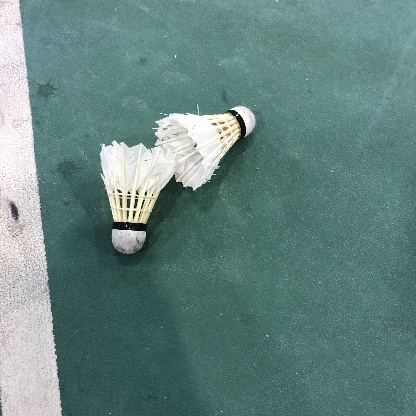ball_single: (155, 106, 255, 191), (100, 141, 175, 254)
